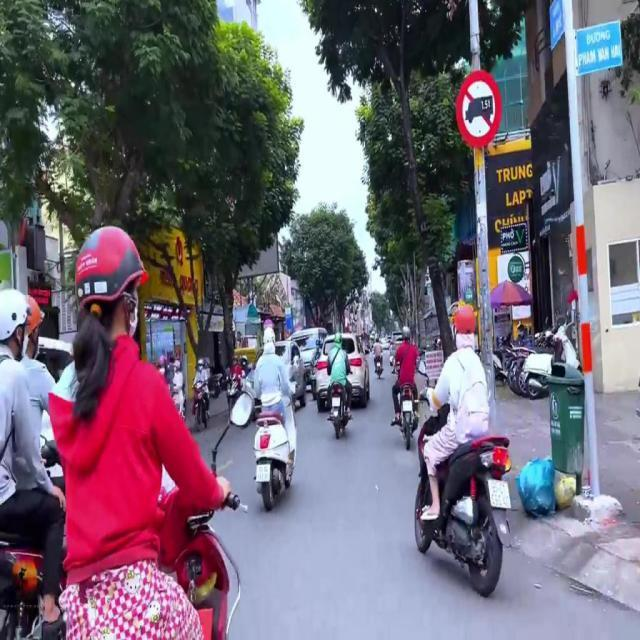106-cam-oto-tai: (455, 70, 502, 146)
